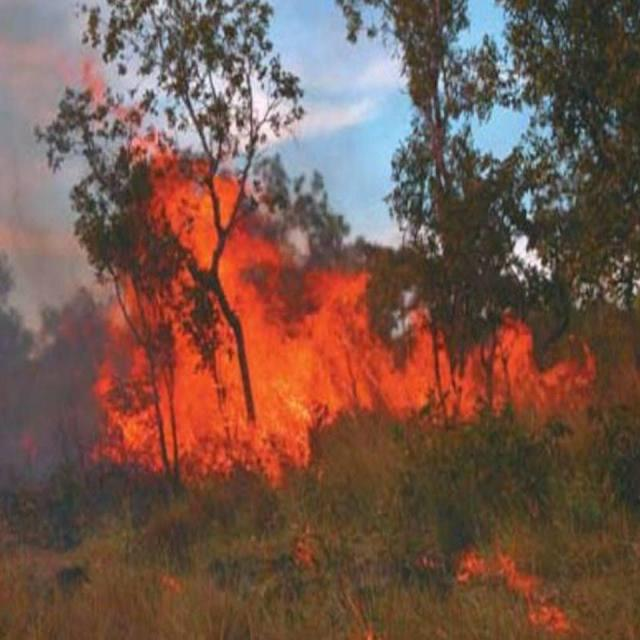fire: (94, 148, 601, 470)
